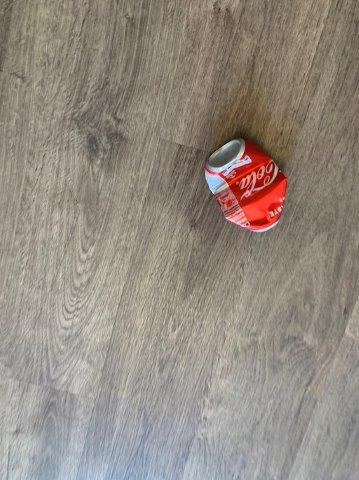kaleng: (206, 138, 287, 231)
